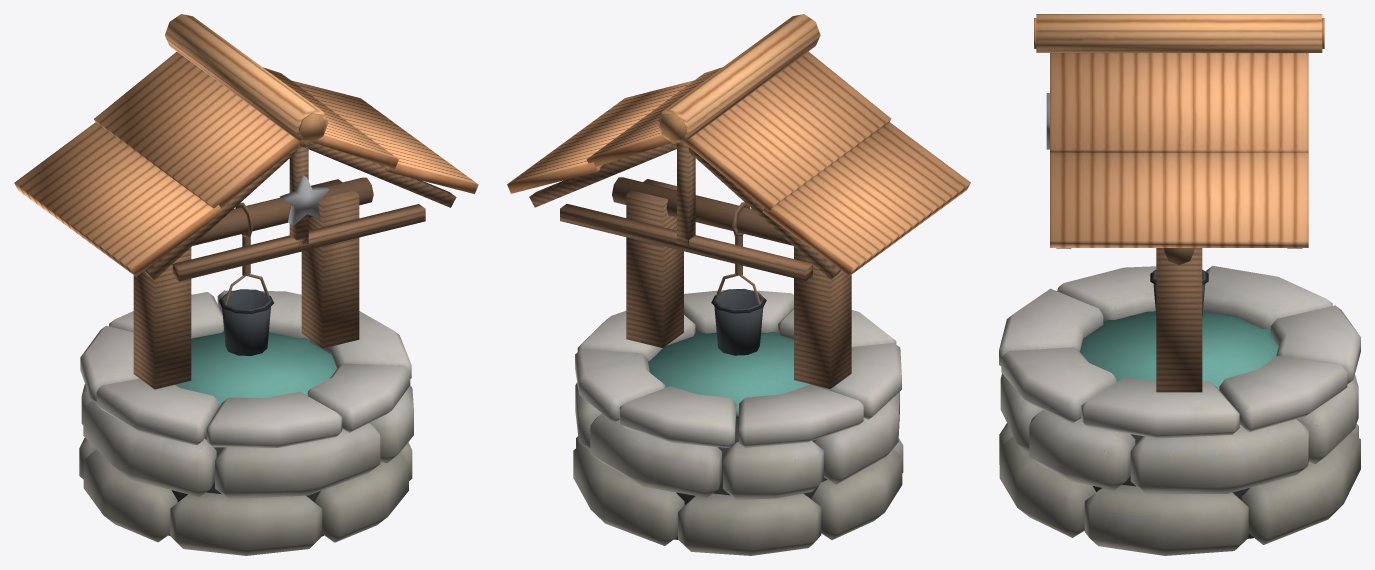
Rendered from well_1_low.glb.
3 views of the same model, side by side, from view 1: azimuth 30°, elevation 25°; view 2: azimuth 150°, elevation 25°; view 3: azimuth 270°, elevation 25° (orthographic). The views are drawn at different scales.
Parts seen in each view (by area): view 1: well_1; view 2: well_1; view 3: well_1.
Boxes of the visible parts, box(x1,y1,x2,y2) form: well_1: box(14, 14, 478, 555); well_1: box(507, 14, 970, 555); well_1: box(999, 14, 1360, 555).
Size of the model in its own units: 1.9 by 2.24 by 1.57.
1 material, 1 textured.
